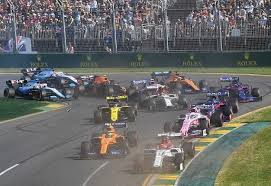FormulaOneCar: (77, 119, 143, 162), (134, 133, 198, 177), (166, 104, 226, 140), (3, 77, 72, 104), (150, 69, 211, 94), (217, 75, 265, 104), (97, 94, 137, 126)
